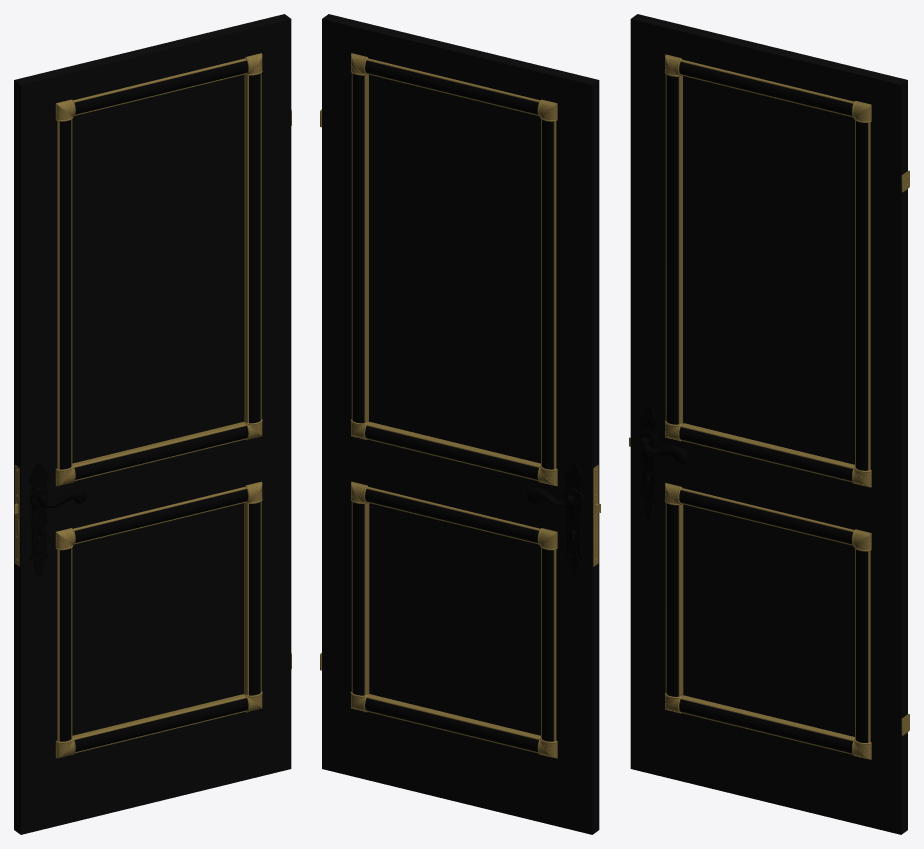
File: doorinlet.FBX
3 views of the same model, side by side, from view 1: azimuth 30°, elevation 25°; view 2: azimuth 150°, elevation 25°; view 3: azimuth 330°, elevation 25° (orthographic).
Visible parts, largest first — view 1: RenderStuf; view 2: RenderStuf; view 3: RenderStuf.
Boxes of the visible parts, bbox=[...] form: RenderStuf: bbox=[14, 14, 291, 834]; RenderStuf: bbox=[320, 14, 600, 834]; RenderStuf: bbox=[629, 14, 909, 834].
Bounding box in the file's own units: 31.02 × 80.6 × 3.87.
